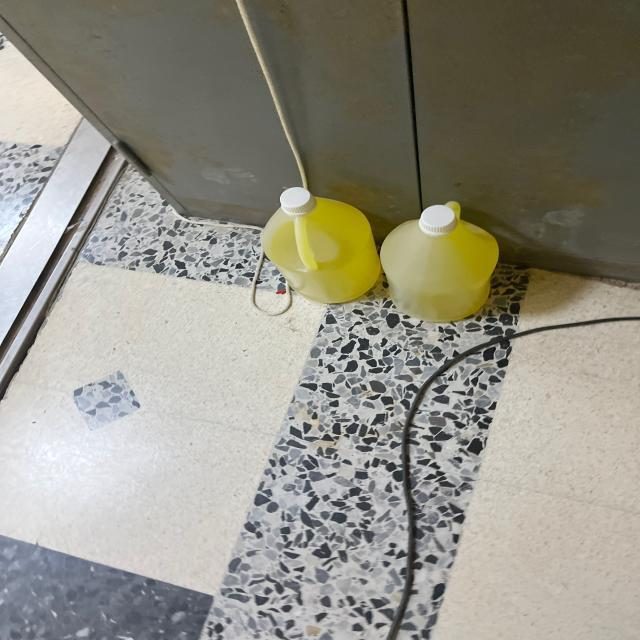HDPE Plastic: (248, 178, 384, 314), (381, 204, 511, 328)
